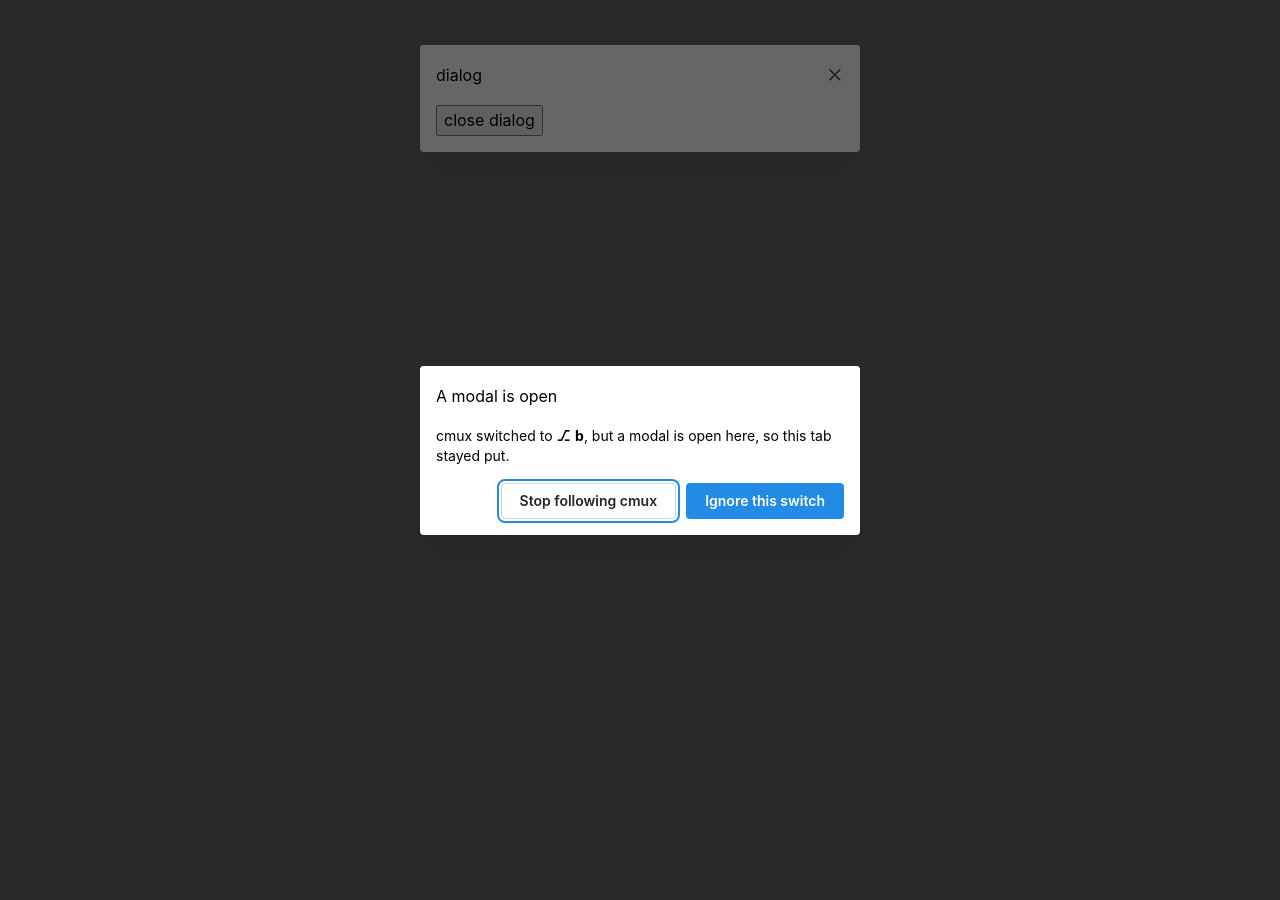
Test case: CmuxFollower with a modal open › Ignore this switch stays and keeps following
The image size is (1280, 900).
Click the button "Ignore this switch": (765, 500) [686,482,844,518]
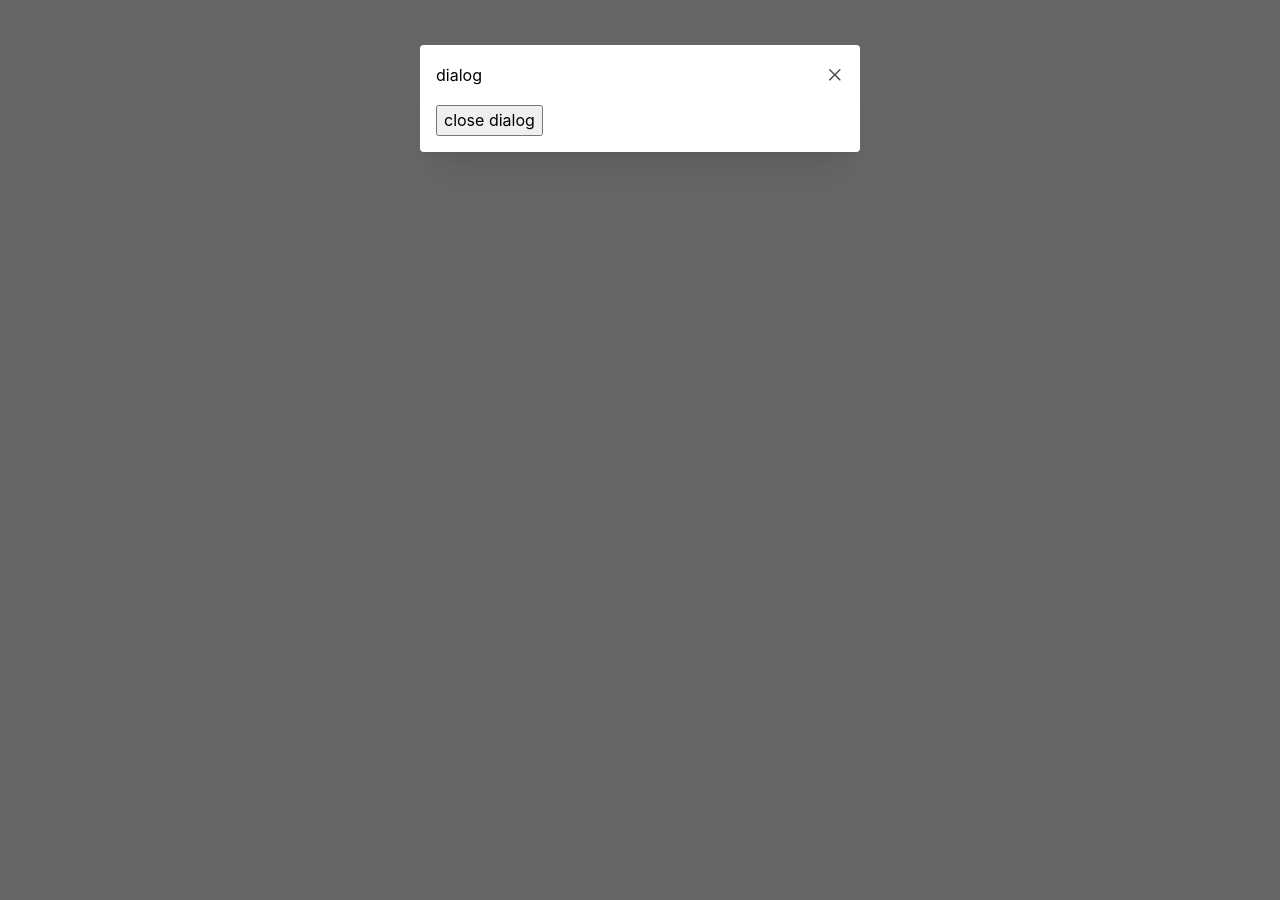
Check: the button "Ignore this switch" is gone
